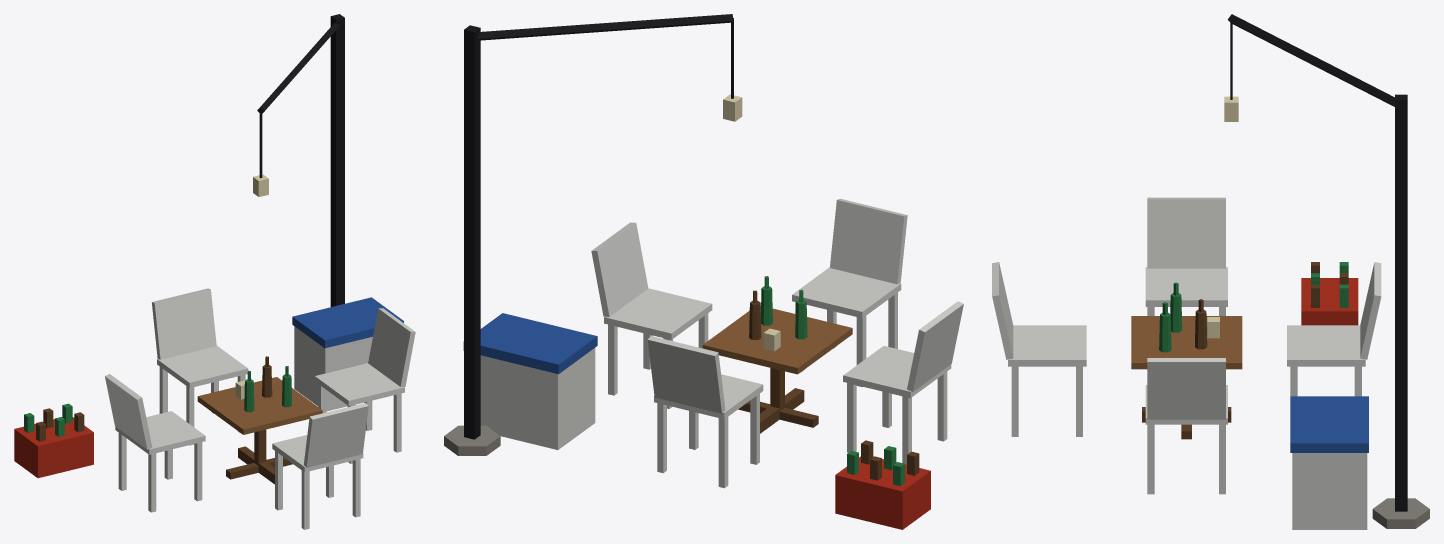
The model's file is prop_joint-set.2eb37f616e94.glb.
The picture shows the model from 3 angles, left to right: view 1: azimuth 30°, elevation 25°; view 2: azimuth 150°, elevation 25°; view 3: azimuth 270°, elevation 25°; orthographic projection. The views are drawn at different scales.
Visible parts, largest first — view 1: body; view 2: body; view 3: body.
Part boxes in pixels (x1,y1,x2,y2): body: [14, 14, 415, 529]; body: [444, 14, 963, 529]; body: [992, 14, 1429, 529].
Size of the model in its own units: 2.83 by 2.6 by 2.45.
